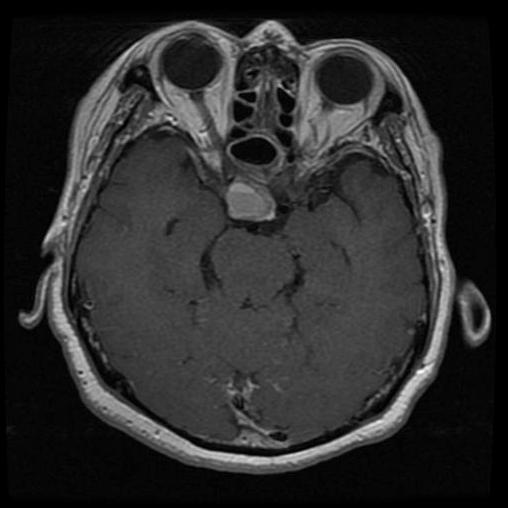Tumour-Pituitary: (222, 171, 281, 232)
